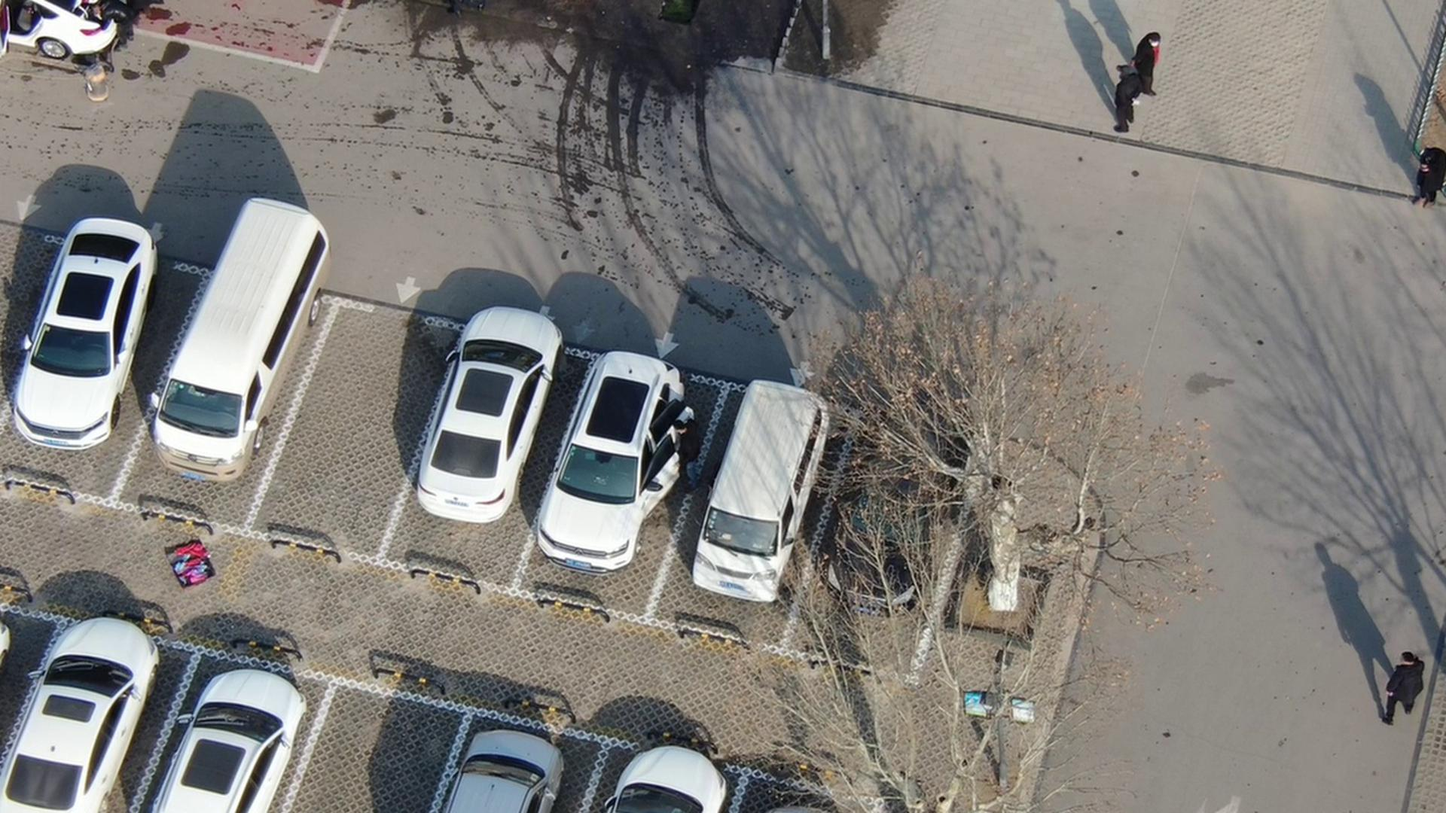human: (1370, 652, 1425, 738), (670, 410, 702, 497), (91, 1, 145, 51), (1406, 148, 1441, 219), (1105, 61, 1138, 132), (1136, 26, 1161, 103)
